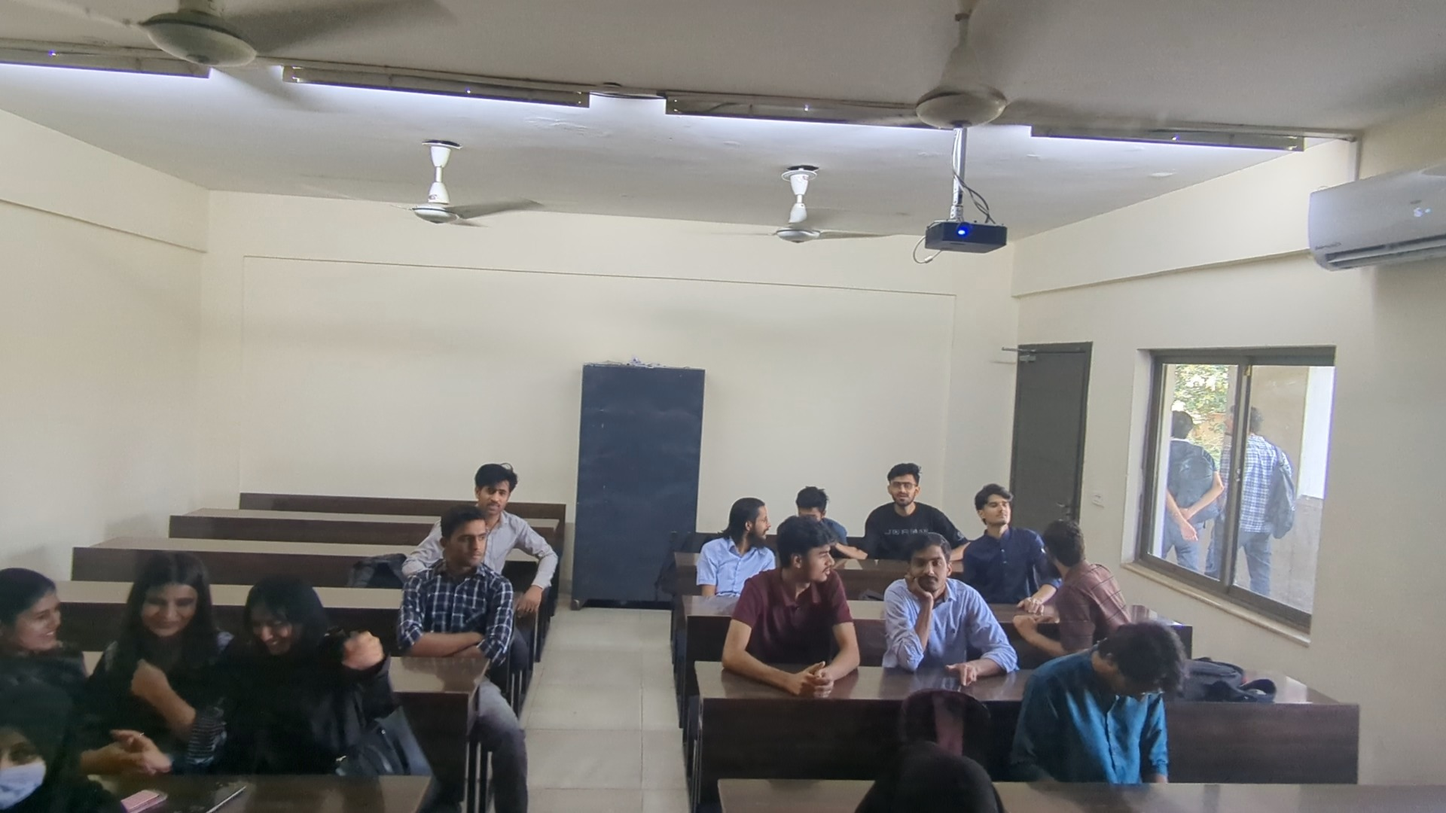look_forward: (434, 510, 514, 645), (899, 531, 968, 644), (876, 448, 948, 554), (469, 439, 547, 529), (979, 478, 1035, 556)
read: (794, 476, 837, 530)
sleep: (231, 555, 354, 711)
turn_head: (4, 534, 97, 731), (757, 522, 853, 683), (1029, 513, 1115, 642), (711, 488, 771, 571)
using_device: (122, 548, 232, 774), (1046, 619, 1173, 795)
